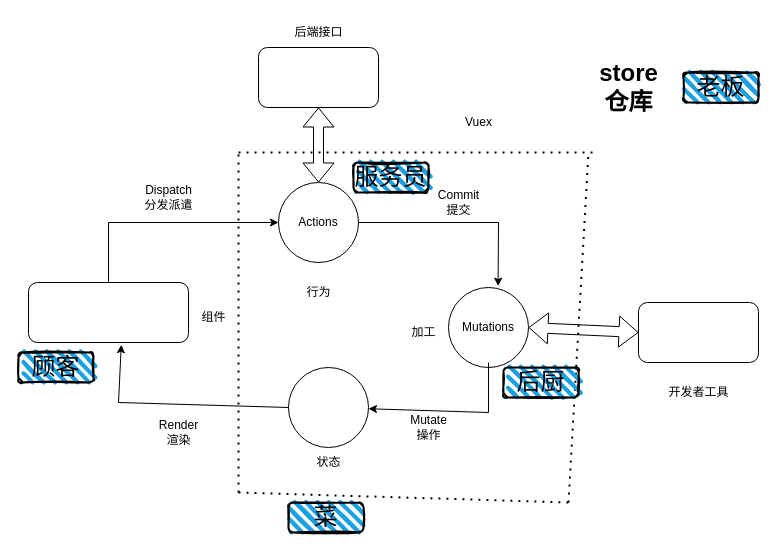
Some shapes in this 776 by 550 pixel diagram are drawn without their labels. Here are the shapes that lost their labels. From the top down, the box of each, then its label:
(258, 46, 378, 108): Backend API
(28, 282, 188, 342): Vue Components
(638, 302, 758, 362): Devtools
(288, 366, 368, 448): State
